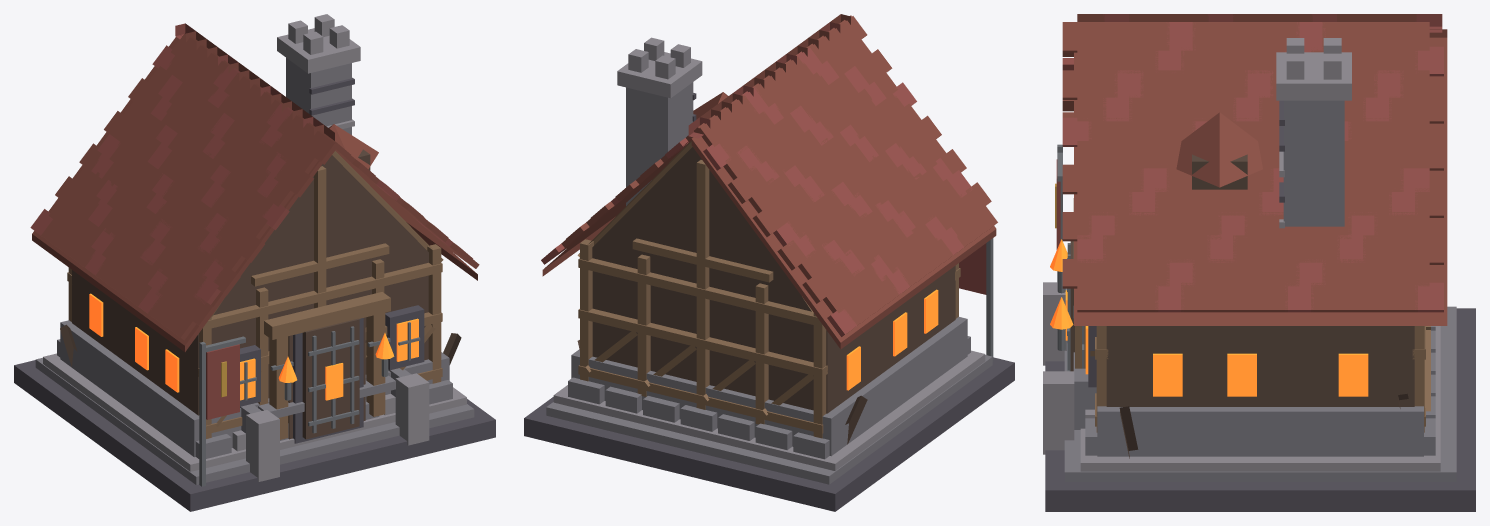
Rendered from town_hall.glb.
3 views of the same model, side by side, from view 1: azimuth 30°, elevation 25°; view 2: azimuth 150°, elevation 25°; view 3: azimuth 270°, elevation 25° (orthographic). The views are drawn at different scales.
Parts seen in each view (by area): view 1: Ashfall Gothic Town Hall Level 1; view 2: Ashfall Gothic Town Hall Level 1; view 3: Ashfall Gothic Town Hall Level 1.
Part boxes in pixels (<box>): Ashfall Gothic Town Hall Level 1: <box>14,14,495,511</box>; Ashfall Gothic Town Hall Level 1: <box>524,14,1014,511</box>; Ashfall Gothic Town Hall Level 1: <box>1043,14,1475,511</box>.
Bounding box in the file's own units: 5.8 × 6.28 × 5.83.
